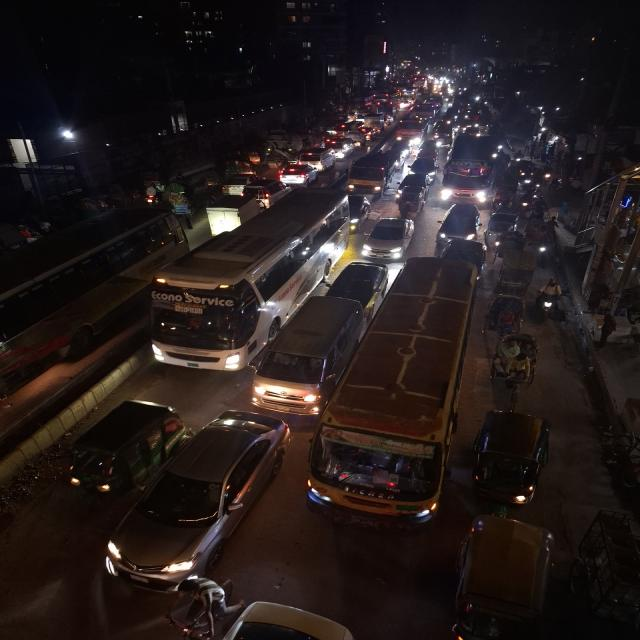bus: (304, 249, 476, 533), (138, 185, 354, 369), (436, 132, 498, 208)
car: (93, 403, 298, 597), (257, 298, 359, 412), (364, 212, 416, 262), (436, 200, 484, 245), (274, 161, 319, 188), (397, 172, 429, 206), (294, 147, 339, 169)
cng: (53, 396, 185, 492), (471, 402, 559, 518)
motorcycle: (534, 273, 569, 325)
rickshaw: (491, 336, 545, 404), (486, 290, 524, 354), (494, 228, 530, 275)
truck: (193, 192, 267, 233), (350, 162, 392, 199)
